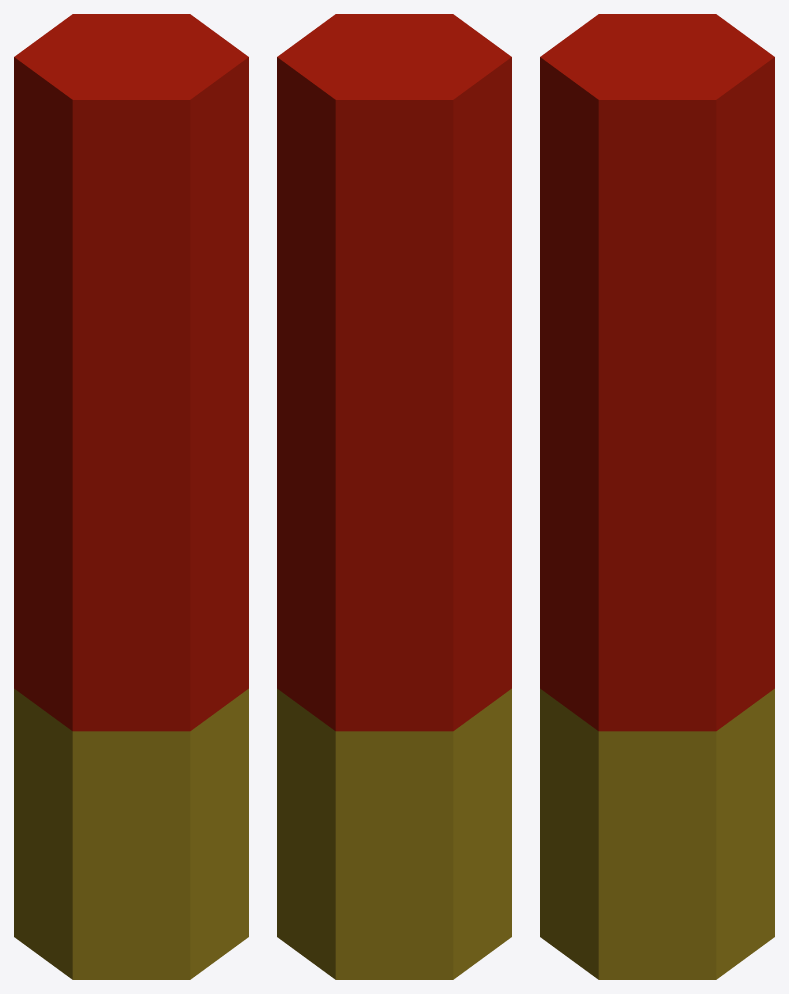
File: SPAS-12_Shell.fbx
3 views of the same model, side by side, from view 1: azimuth 30°, elevation 25°; view 2: azimuth 150°, elevation 25°; view 3: azimuth 270°, elevation 25° (orthographic).
Parts seen in each view (by area): view 1: SPAS-12_Shell; view 2: SPAS-12_Shell; view 3: SPAS-12_Shell.
Boxes of the visible parts, bbox=[...] form: SPAS-12_Shell: bbox=[14, 14, 248, 979]; SPAS-12_Shell: bbox=[277, 14, 511, 979]; SPAS-12_Shell: bbox=[540, 14, 774, 979].
Size of the model in its own units: 1.41 by 6.75 by 1.63.
